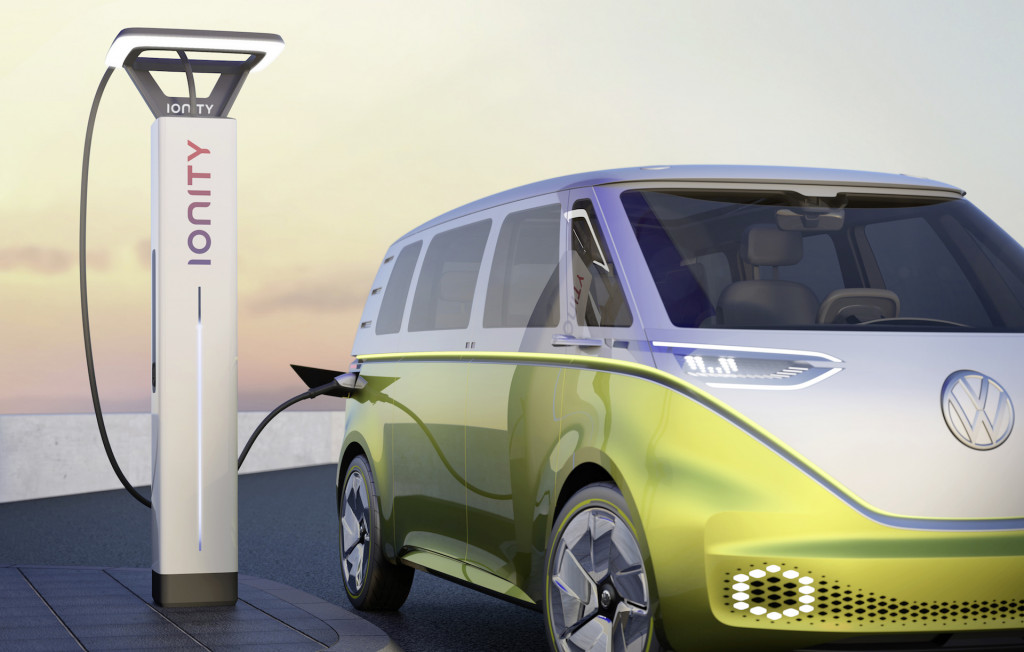other: (308, 162, 1024, 652)
